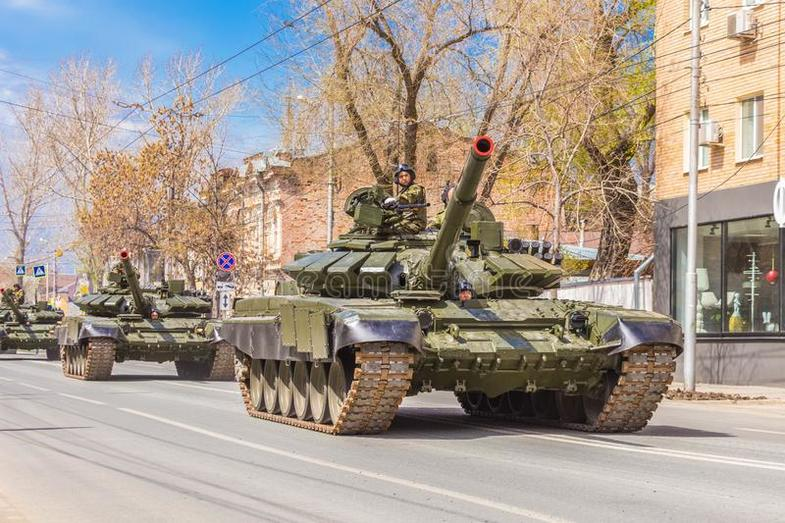t72: (231, 198, 682, 433)
